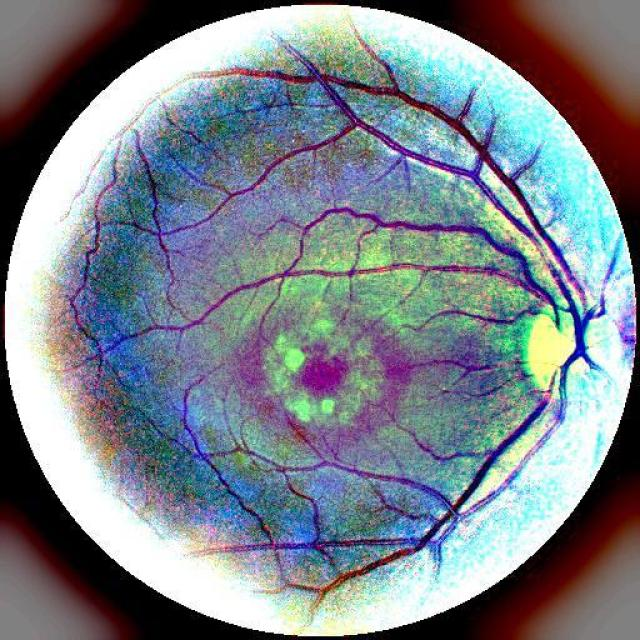Macula: (299, 356, 346, 394)
Optic Disk: (521, 304, 595, 390)
